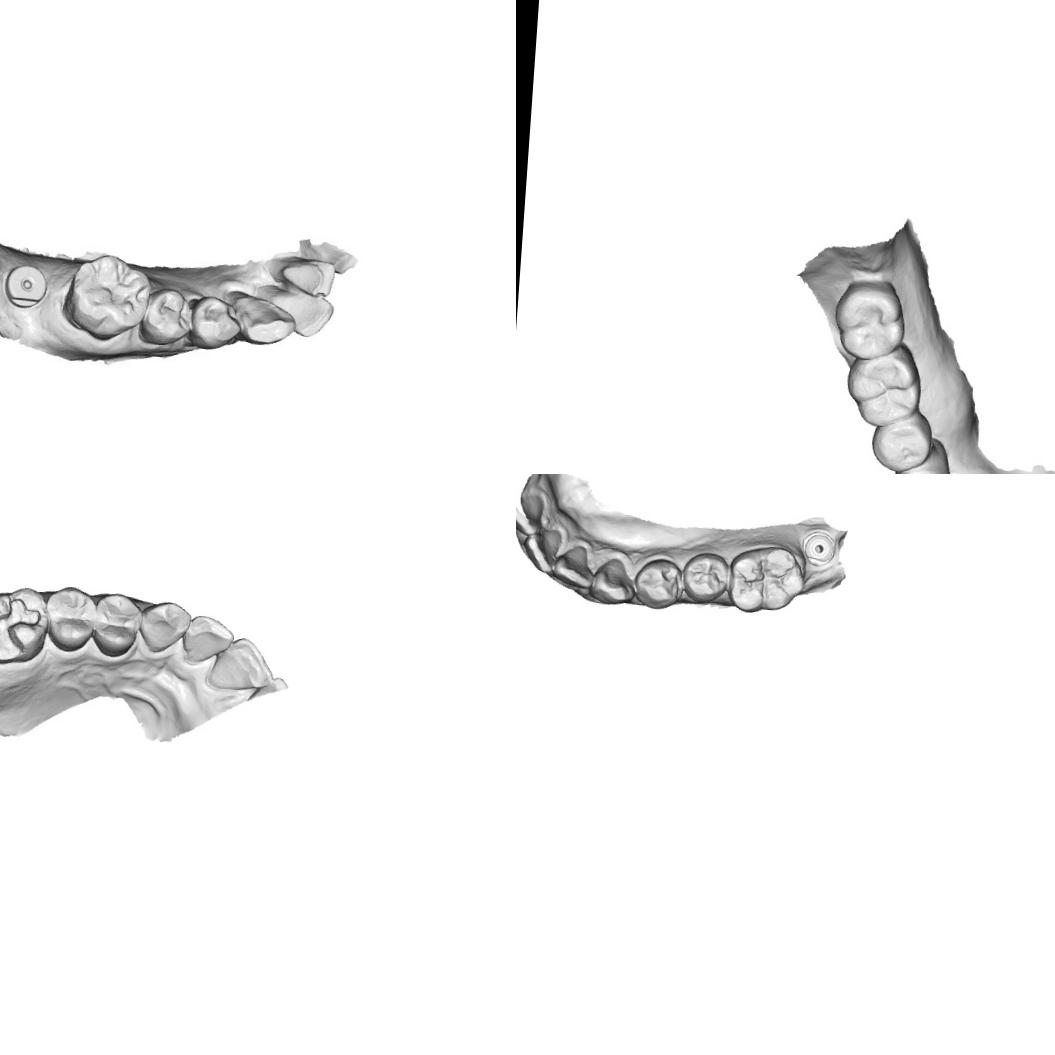canine: (229, 286, 292, 352), (136, 596, 193, 654), (586, 555, 638, 608)
implant: (0, 263, 47, 316), (800, 527, 836, 567)
incisor: (206, 633, 276, 696), (271, 284, 336, 338), (179, 610, 236, 667), (277, 256, 343, 296), (550, 542, 597, 590), (519, 525, 563, 576), (516, 490, 545, 537)
inlay: (0, 592, 41, 664)
molar: (61, 247, 147, 340), (841, 340, 925, 430), (828, 276, 909, 364), (726, 541, 808, 617)
premolar: (867, 408, 936, 474), (42, 582, 98, 654), (90, 590, 142, 658), (140, 285, 194, 350), (631, 554, 685, 610), (186, 293, 238, 350), (679, 550, 730, 606), (890, 444, 954, 474)
